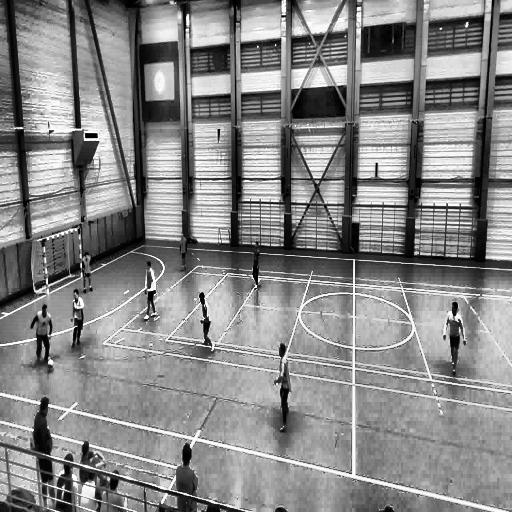ball: (46, 358, 55, 372)
player: (32, 399, 56, 507), (442, 300, 466, 377), (173, 441, 199, 512), (274, 342, 292, 432), (30, 305, 53, 366), (78, 444, 110, 486), (198, 291, 214, 352), (71, 288, 85, 347), (144, 260, 157, 320), (81, 252, 93, 294), (251, 241, 260, 286), (179, 232, 188, 271)
